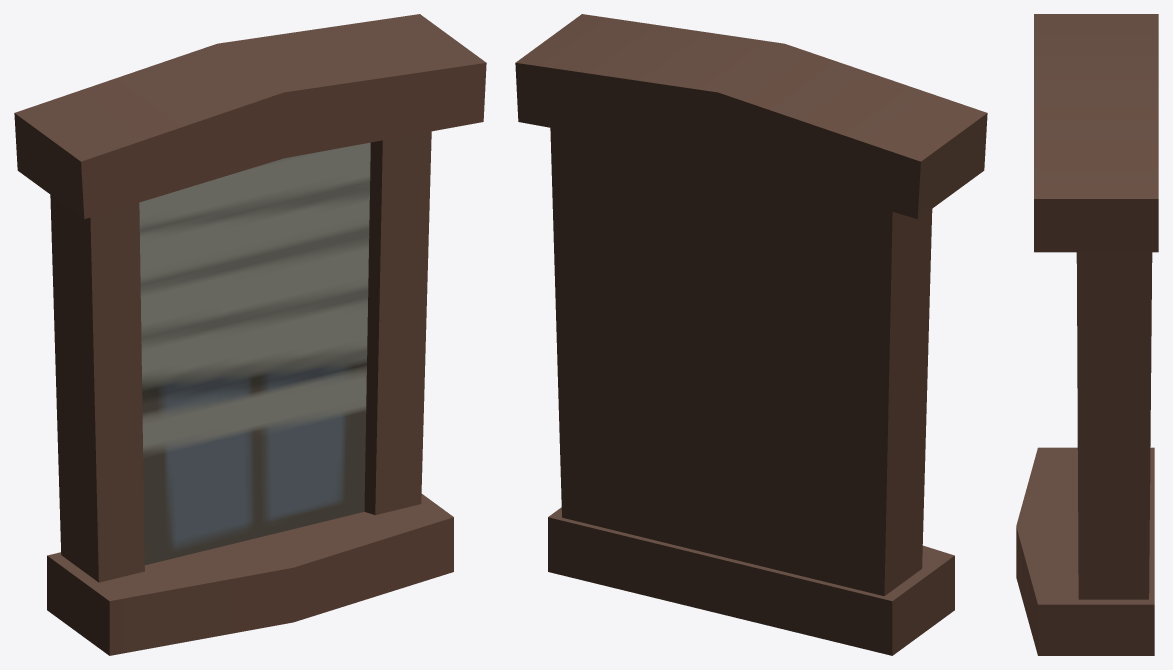
File: Window_E02.fbx
3 views of the same model, side by side, from view 1: azimuth 30°, elevation 25°; view 2: azimuth 150°, elevation 25°; view 3: azimuth 270°, elevation 25° (orthographic). The views are drawn at different scales.
Parts seen in each view (by area): view 1: Window_E02; view 2: Window_E02; view 3: Window_E02.
Boxes of the visible parts, x1=… form: Window_E02: x1=14, y1=14, x2=486, y2=655; Window_E02: x1=515, y1=14, x2=987, y2=655; Window_E02: x1=1016, y1=14, x2=1158, y2=655.
Bounding box in the file's own units: 158 × 195 × 51.42.
